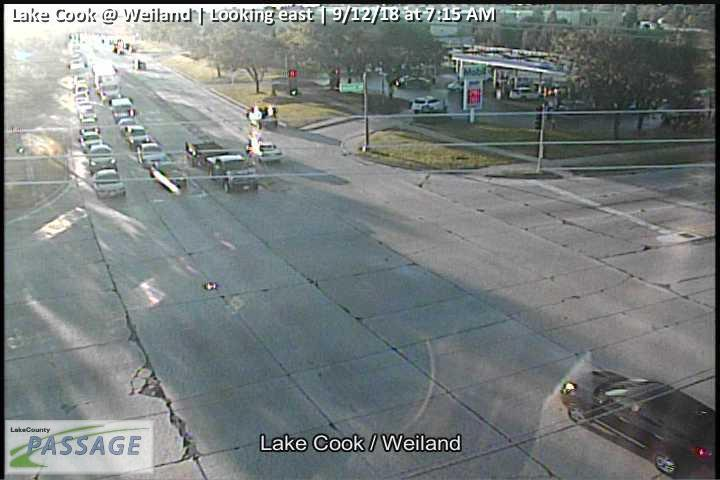SUV: (561, 369, 719, 480), (88, 144, 116, 170), (412, 96, 442, 116), (79, 131, 103, 153), (100, 80, 121, 104)
Sedan: (93, 169, 125, 198), (247, 140, 284, 164), (137, 143, 168, 168)
Truck: (186, 139, 259, 195), (110, 97, 135, 122)
